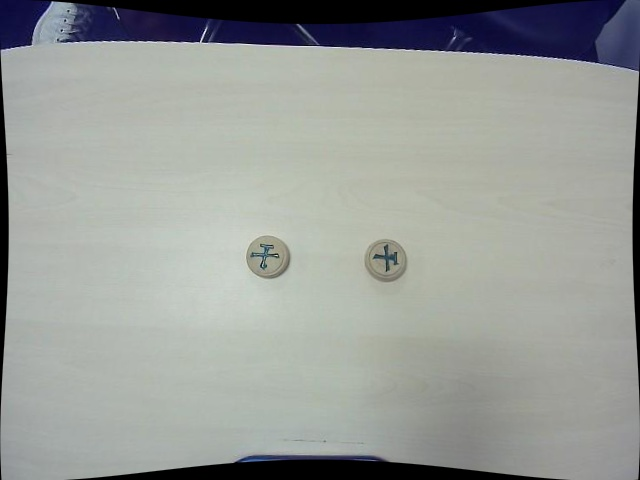Black-Guard: (365, 237, 409, 284), (246, 234, 291, 279)
